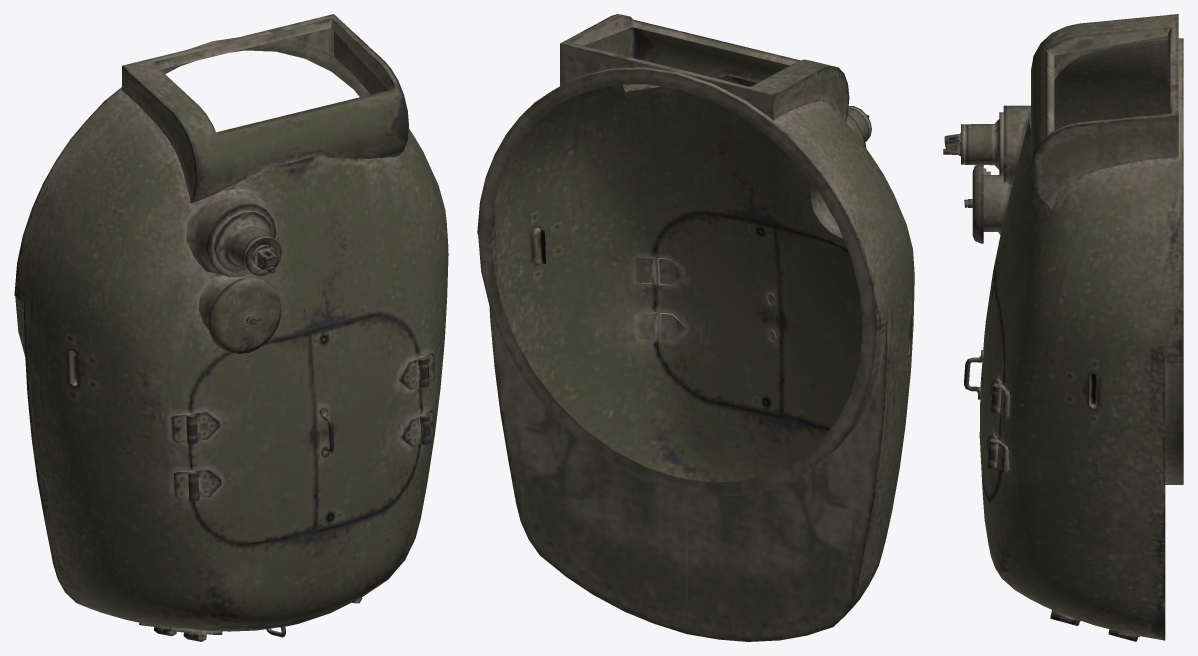
File: Turret_01.glb
3 renders of one model, left to right at view 1: azimuth 30°, elevation 25°; view 2: azimuth 150°, elevation 25°; view 3: azimuth 270°, elevation 25°, orthographic. The views are drawn at different scales.
Parts seen in each view (by area): view 1: set_0_group_0; view 2: set_0_group_0; view 3: set_0_group_0.
Boxes of the visible parts, bbox=[...] form: set_0_group_0: bbox=[14, 14, 448, 641]; set_0_group_0: bbox=[477, 14, 914, 641]; set_0_group_0: bbox=[943, 14, 1183, 641].
Bounding box in the file's own units: 1.4 × 1.9 × 0.75.
1 material, 1 textured.
